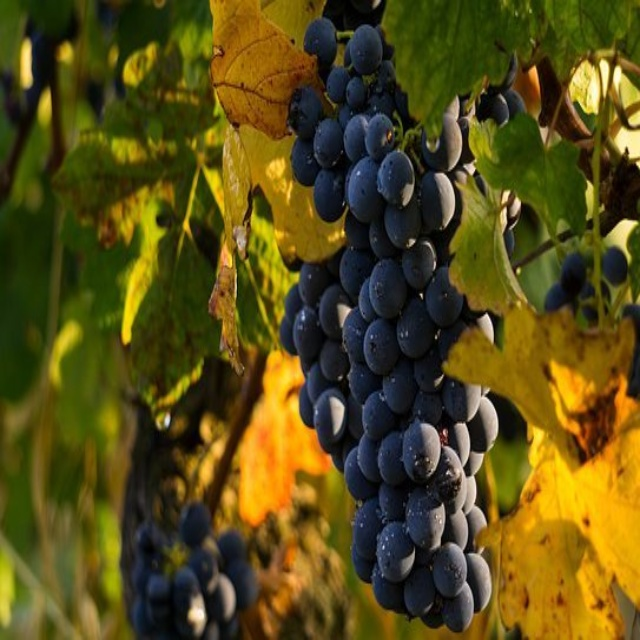grape: (274, 10, 519, 635)
